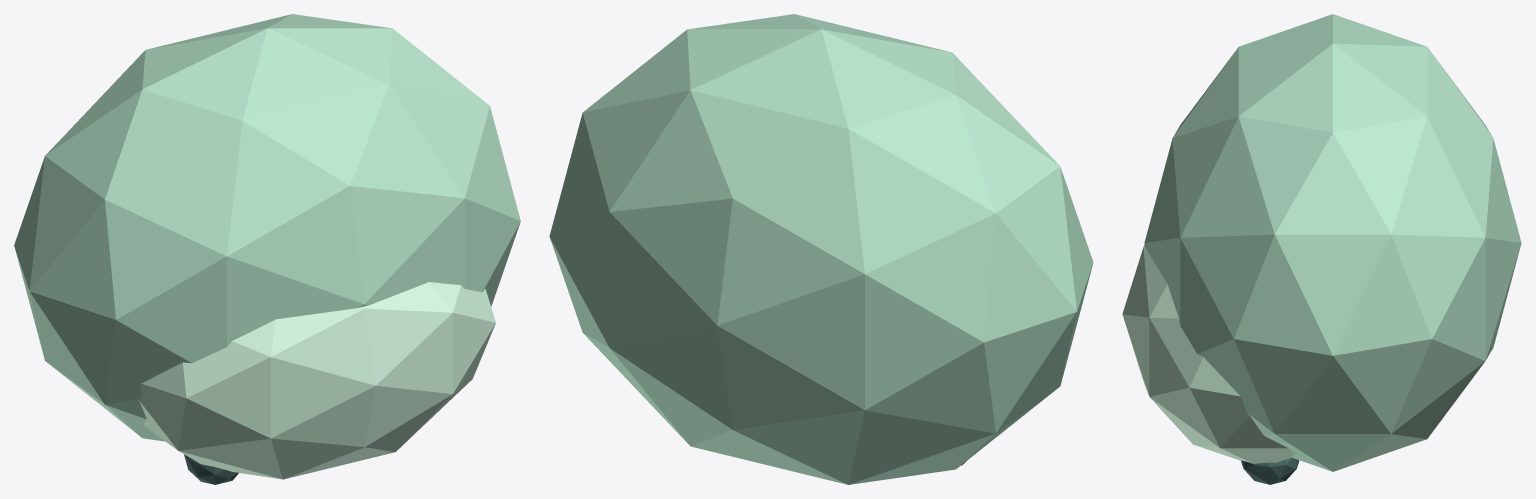
The model's file is lesni-slizena.glb.
3 views of the same model, side by side, from view 1: azimuth 30°, elevation 25°; view 2: azimuth 150°, elevation 25°; view 3: azimuth 270°, elevation 25° (orthographic). The views are drawn at different scales.
Parts seen in each view (by area): view 1: world; view 2: world; view 3: world.
Boxes of the visible parts, x1=… form: world: x1=14, y1=14, x2=520, y2=484; world: x1=549, y1=14, x2=1093, y2=484; world: x1=1122, y1=14, x2=1521, y2=484.
Size of the model in its own units: 1.7 by 1.4 by 1.27.
